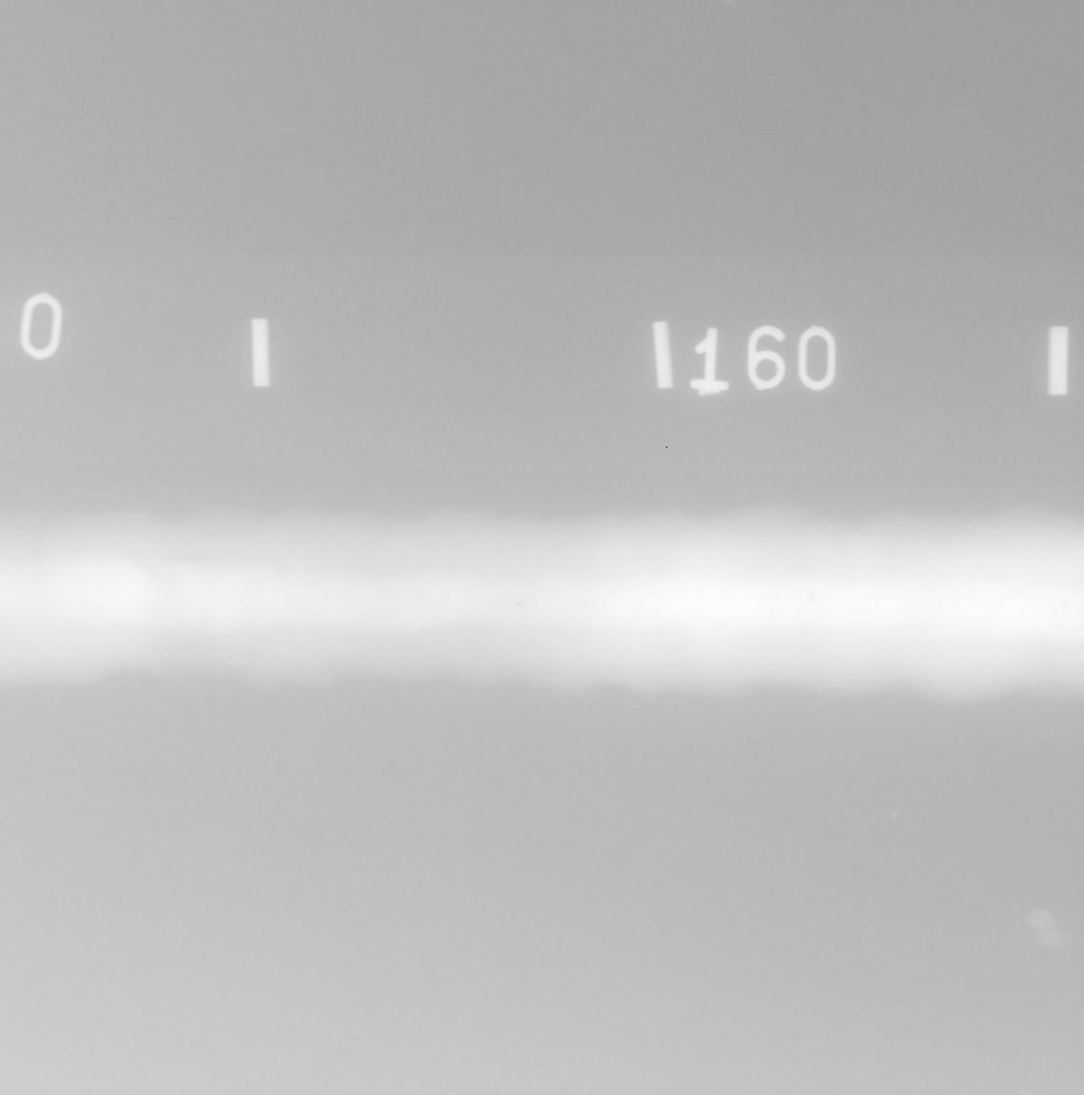Pore/Porosity: (513, 600, 524, 609), (1059, 600, 1069, 608), (809, 594, 818, 601), (579, 600, 587, 607), (414, 610, 419, 615)
